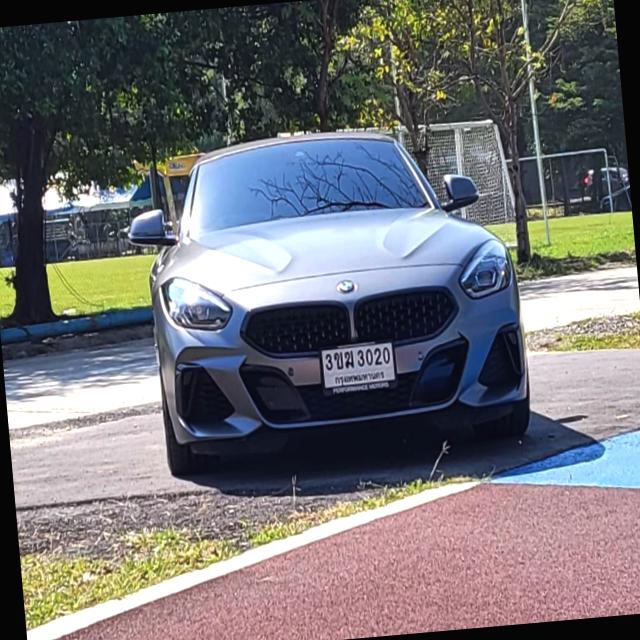license_plate: (318, 337, 399, 398)
